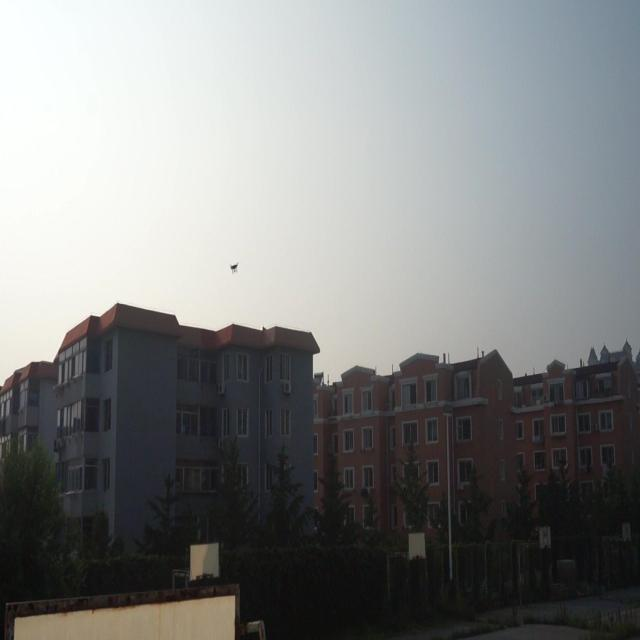drone: (230, 262, 238, 273)
